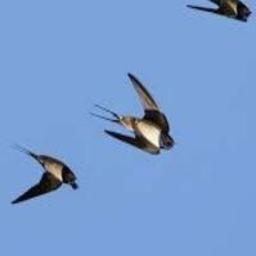Swallow: (87, 74, 175, 156), (10, 143, 77, 205), (185, 0, 251, 23)
